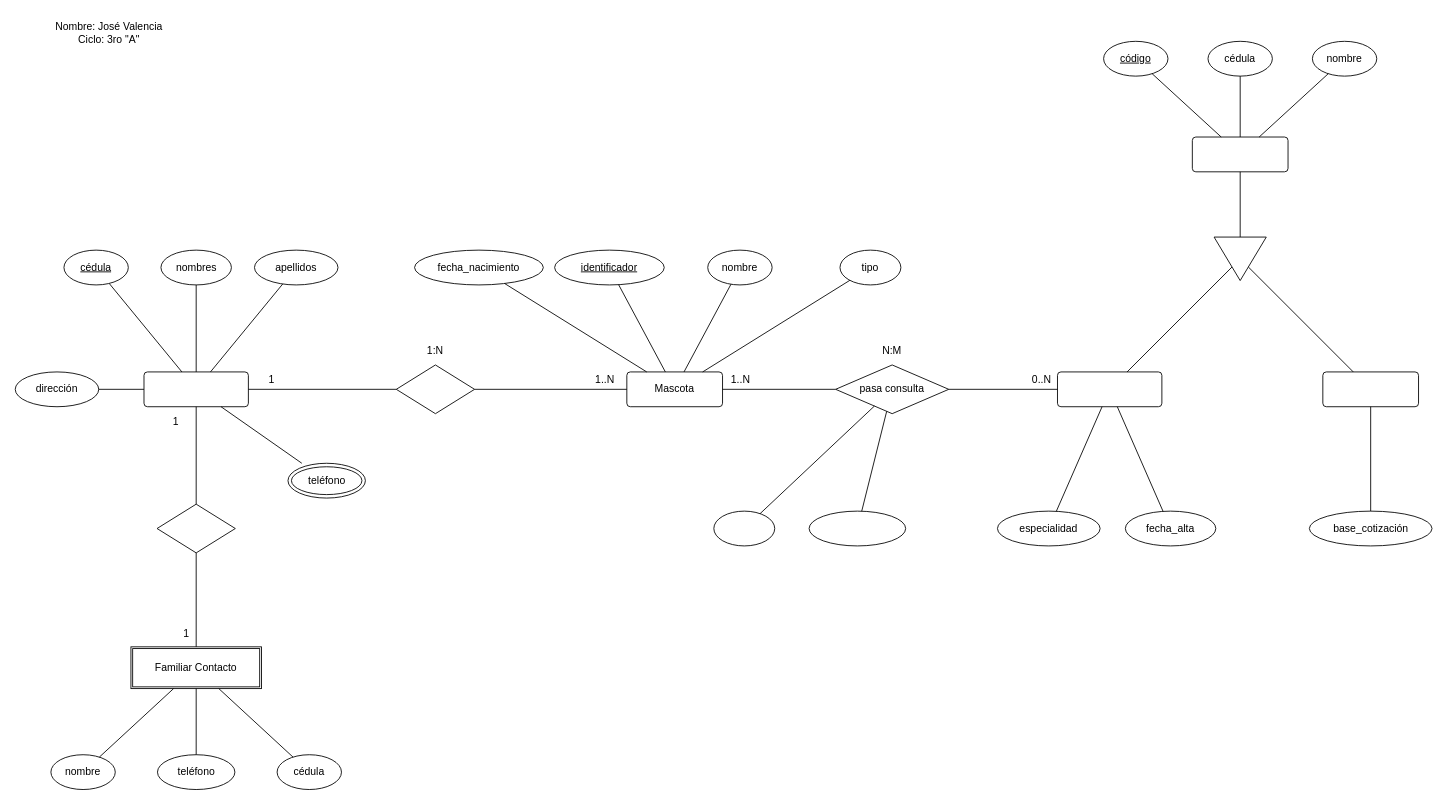
Some shapes in this 1448 by 805 pixel diagram are drawn without their labels. Here are the shapes that lost their labels. From the top down, the centre of each, then its label:
At pixel 1239 154: "Personal".
At pixel 195 389: "Propietario".
At pixel 435 389: "lleva".
At pixel 1109 389: "Veterinario".
At pixel 1370 389: "Auxiliar".
At pixel 195 528: "tiene".
At pixel 744 528: "fecha".
At pixel 857 528: "diagnóstico".
